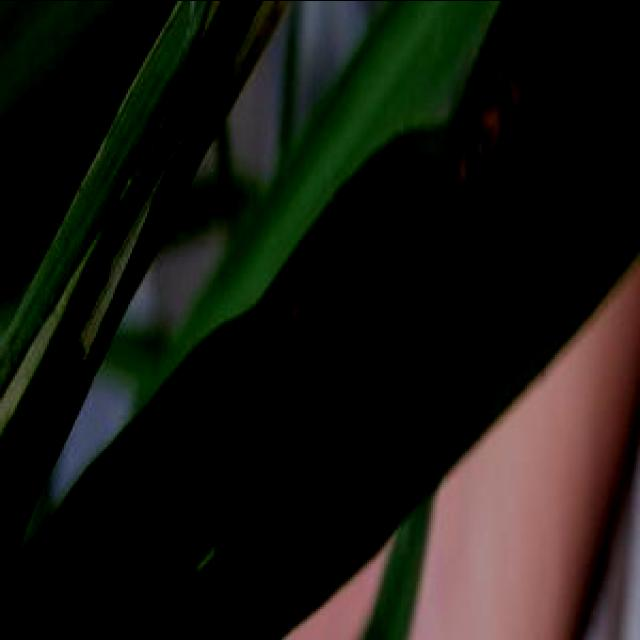Brown_Spot: (370, 55, 542, 316), (205, 285, 318, 415)
